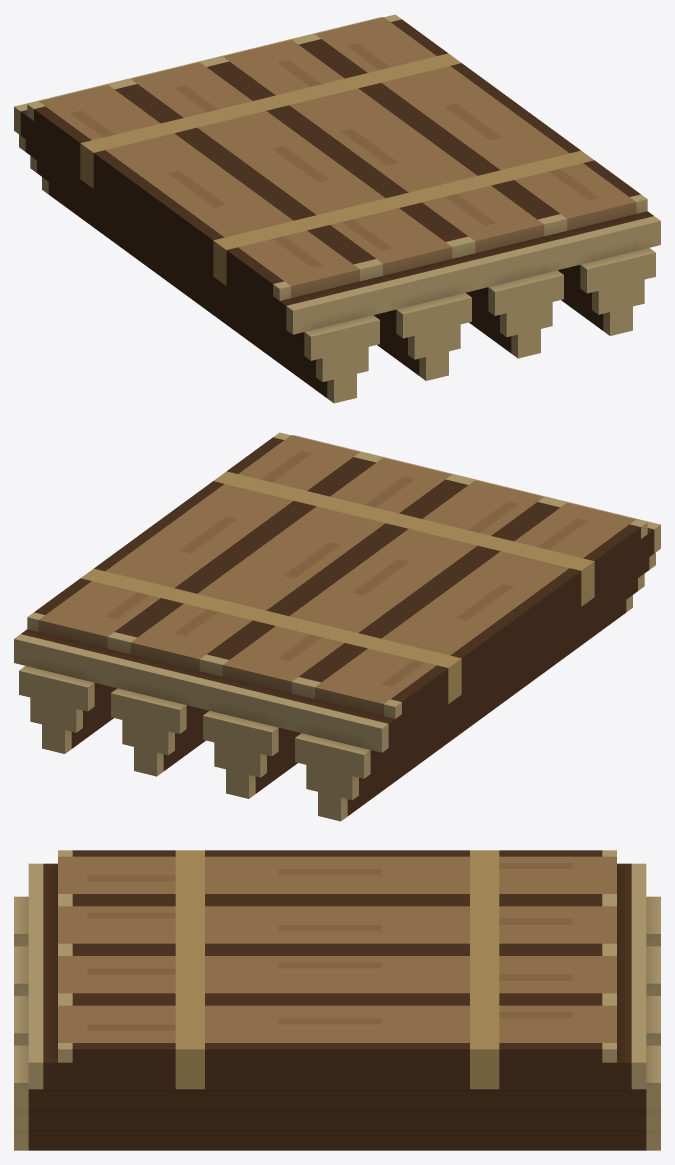
The model's file is log_bridge_1.glb.
3 views of the same model, one above another, from view 1: azimuth 30°, elevation 25°; view 2: azimuth 150°, elevation 25°; view 3: azimuth 270°, elevation 25° (orthographic). The views are drawn at different scales.
Visible parts, largest first — view 1: VoxelVisual; view 2: VoxelVisual; view 3: VoxelVisual.
Part boxes in pixels (x1,y1,x2,y2): VoxelVisual: (14, 14, 660, 403); VoxelVisual: (14, 432, 660, 821); VoxelVisual: (14, 850, 660, 1150).
Size of what is drawn, in the model's own units: 2 by 0.5625 by 2.75.
